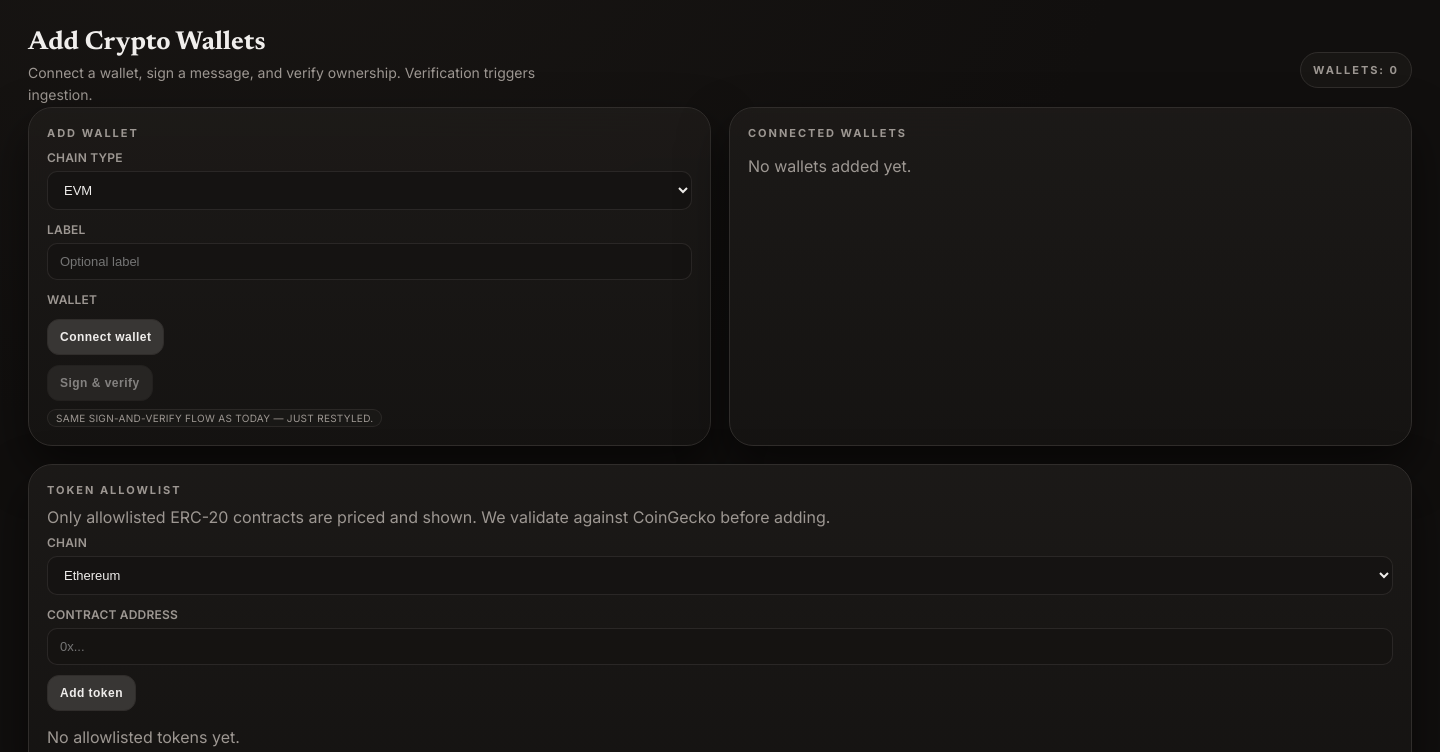
Test case: CryptoWallets route › handles EVM connect/switch failures and Solana connected state UI
Click the button "Connect wallet" at (106, 337), box [47, 319, 164, 355]
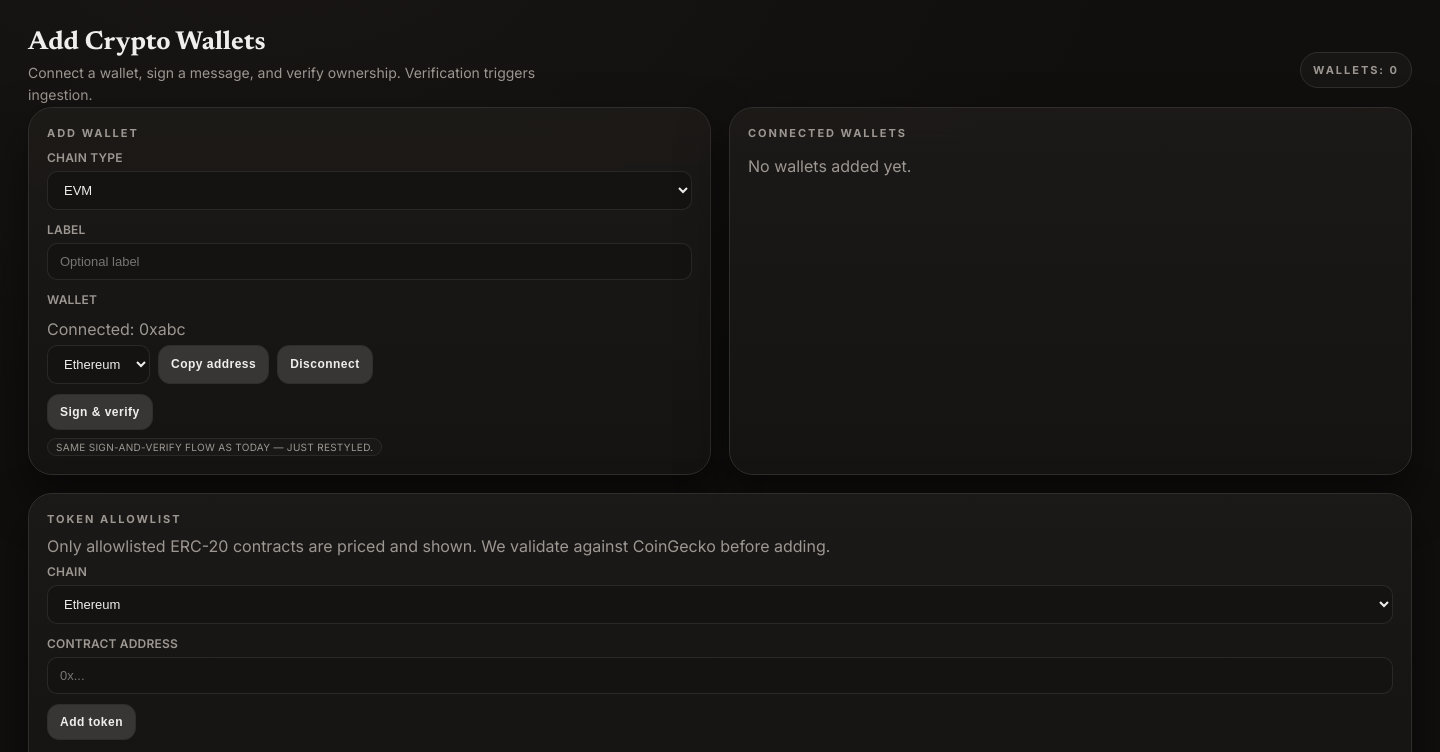
Check: the text "Connected: 0xabc" is shown, box [47, 319, 186, 339]
Select "Base" in the 2nd dropdown at (98, 364), box [47, 345, 150, 384]
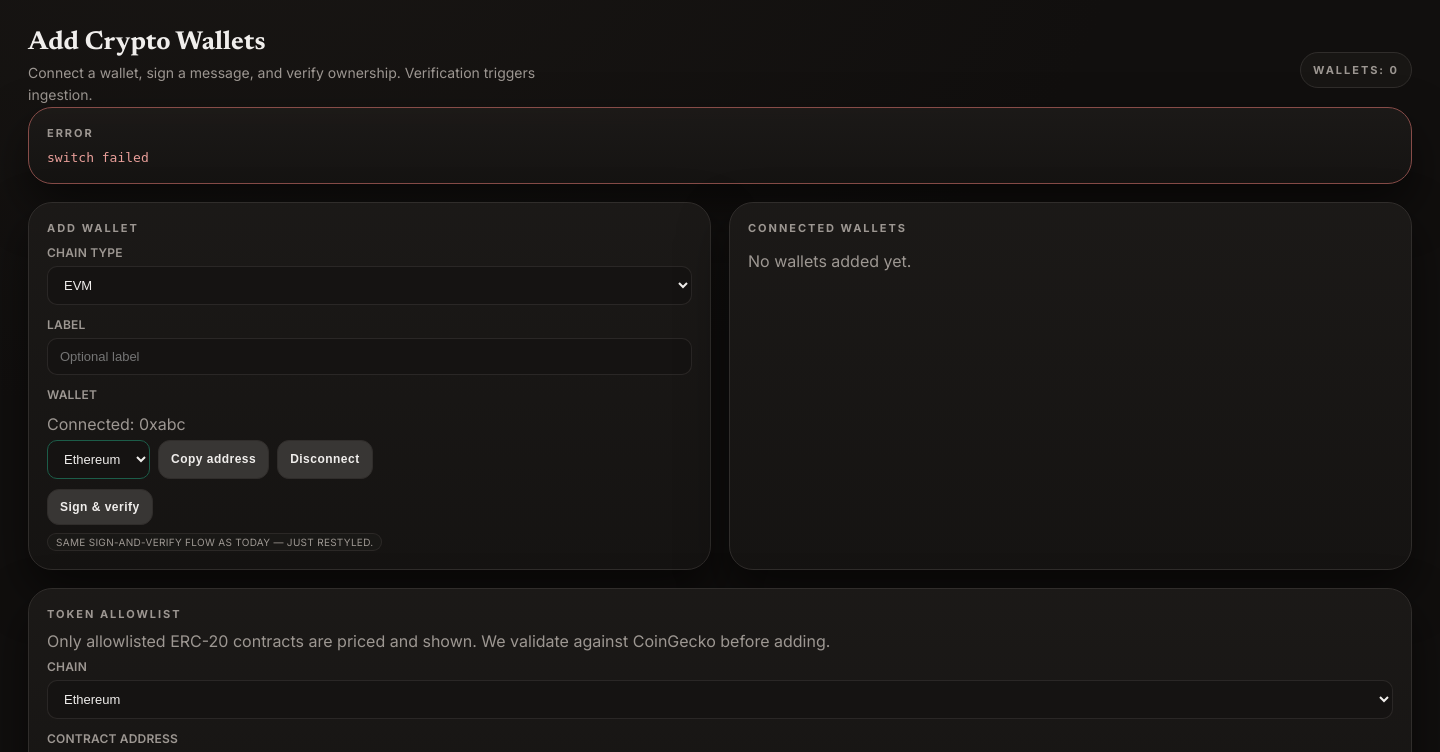
Check: the text "switch failed" is shown, box [47, 150, 149, 165]
Select "Solana" in the dropdown labelled "Chain Type" at (370, 285), box [47, 266, 692, 305]
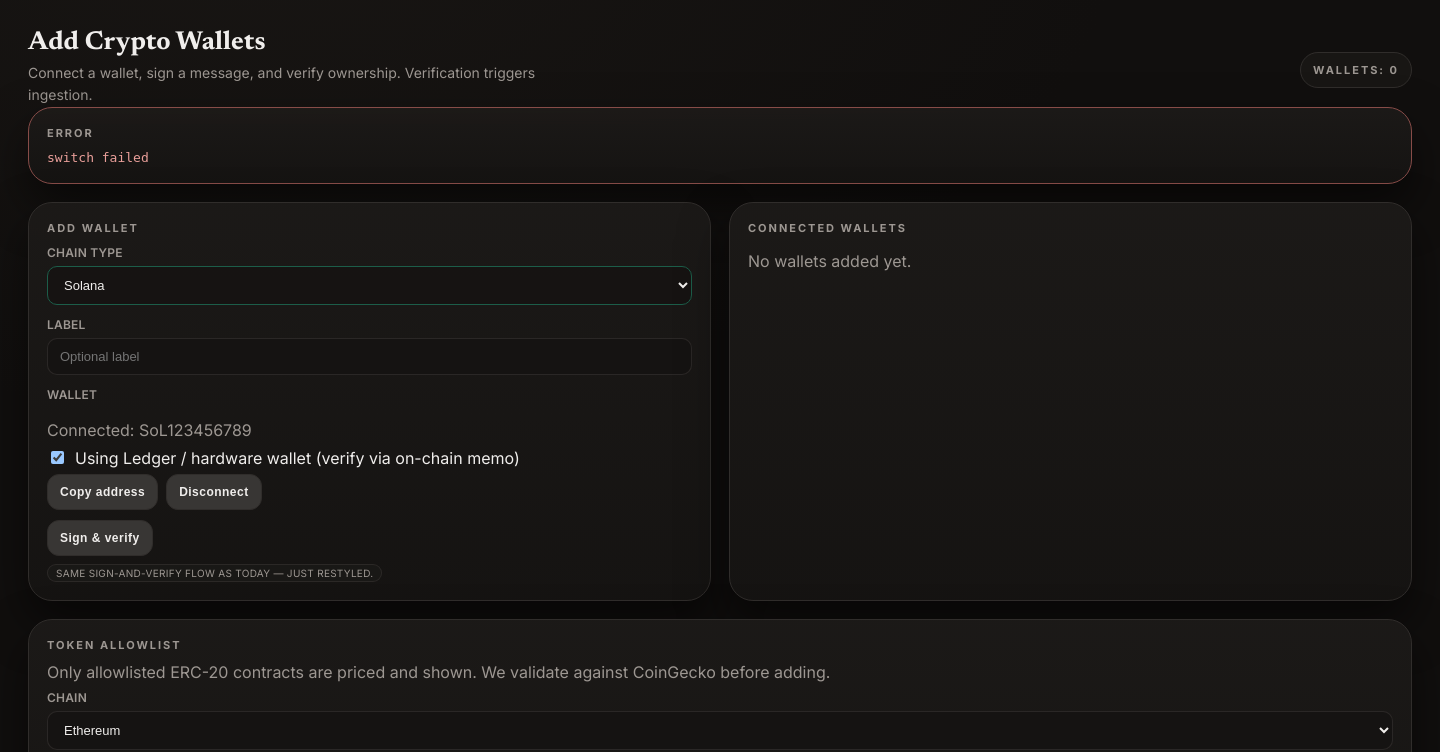
Check: the button "Copy address" is shown, box [47, 474, 158, 510]
Check: the button "Disconnect" is shown, box [166, 474, 262, 510]
Check: the text "Connected: SoL123456789" is shown, box [47, 420, 252, 440]
